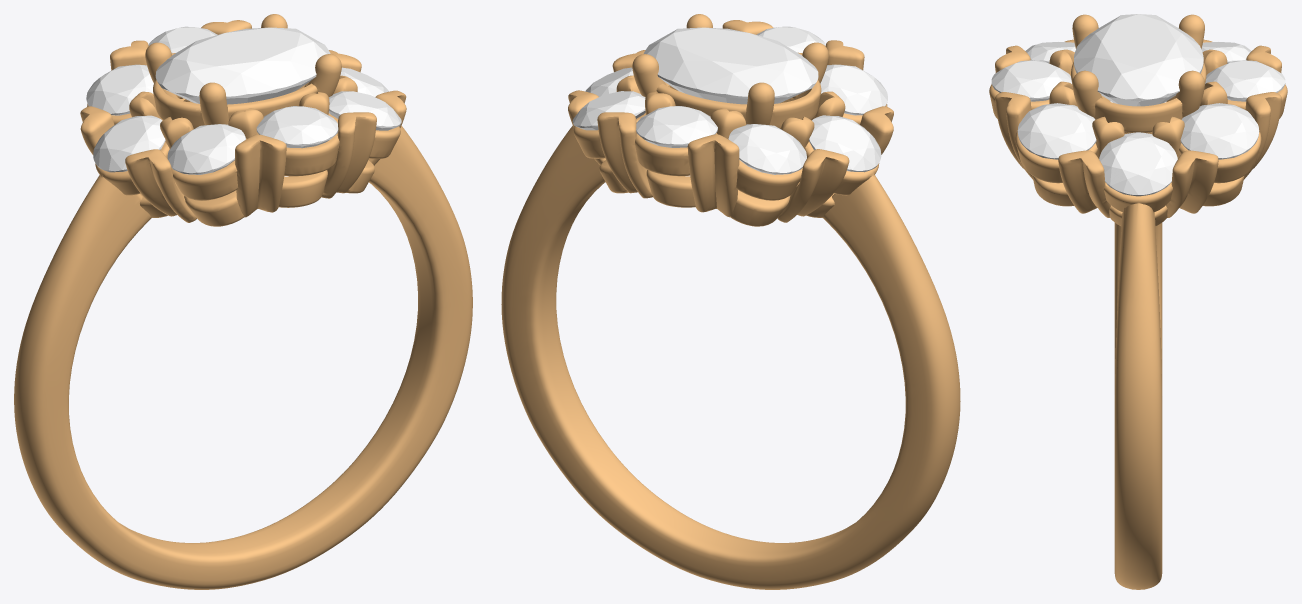
3 renders of one model, left to right at view 1: azimuth 30°, elevation 25°; view 2: azimuth 150°, elevation 25°; view 3: azimuth 270°, elevation 25°, orthographic.
Parts seen in each view (by area): view 1: object 10, 3Design CAD STL : part0 (×8); view 2: object 10, 3Design CAD STL : part0 (×8); view 3: object 10, 3Design CAD STL : part0 (×8).
Boxes of the visible parts, box(x1,y1,x2,y2) form: object 10: box(14, 14, 472, 589); 3Design CAD STL : part0 (×8): box(86, 26, 401, 174); object 10: box(501, 14, 960, 589); 3Design CAD STL : part0 (×8): box(572, 26, 887, 174); object 10: box(989, 14, 1287, 589); 3Design CAD STL : part0 (×8): box(991, 14, 1285, 196).
Bounding box in the file's own units: 2.47 × 2.8 × 1.44.
